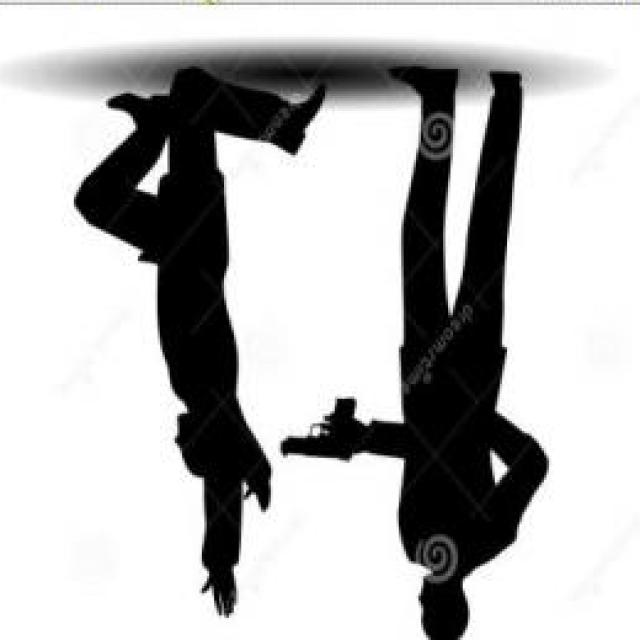pistol: (279, 398, 357, 462)
